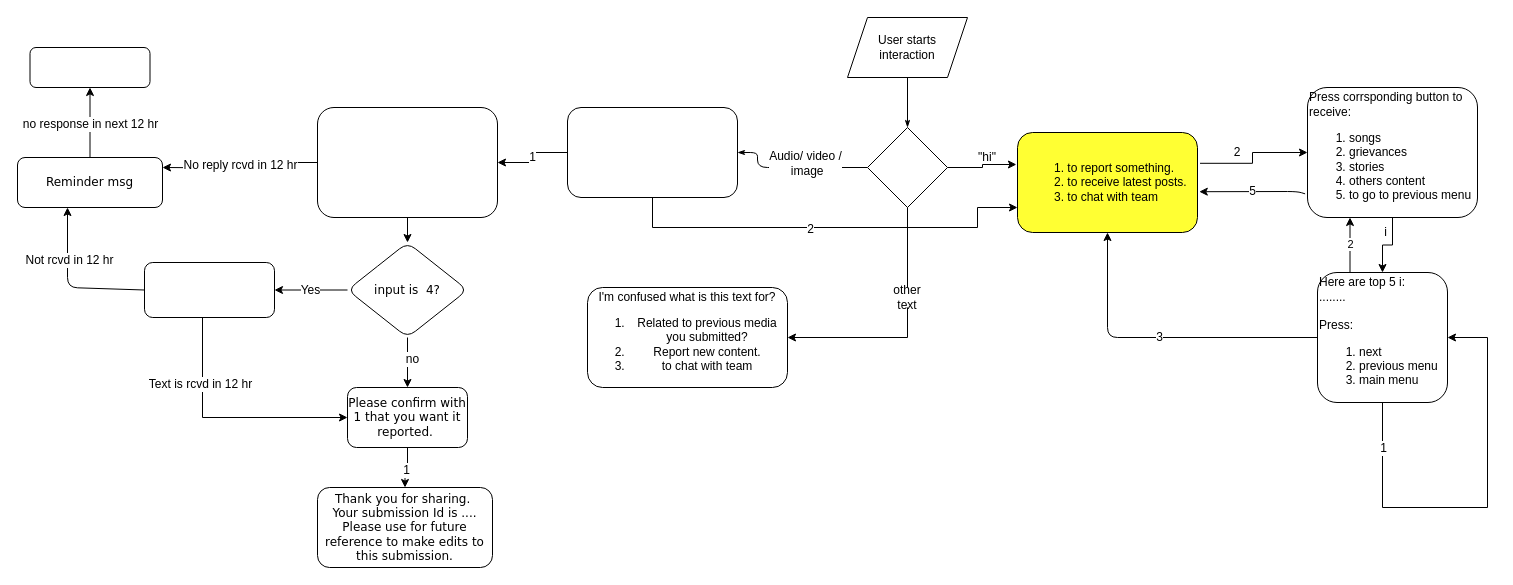
This 1513x585 diagram has some shape labels left out. The shapes that lost their labels are listed below. From the top down, each one's centre as x and y in pixels, then its label:
At (x=89, y=67): "session ends".
At (x=407, y=162): "Thank you for sharing. Reply with story grievance song other".
At (x=652, y=152): "to report this media. to go to menu. to chat with team.".
At (x=907, y=167): "Message type".
At (x=209, y=290): "Describe with brief text".
